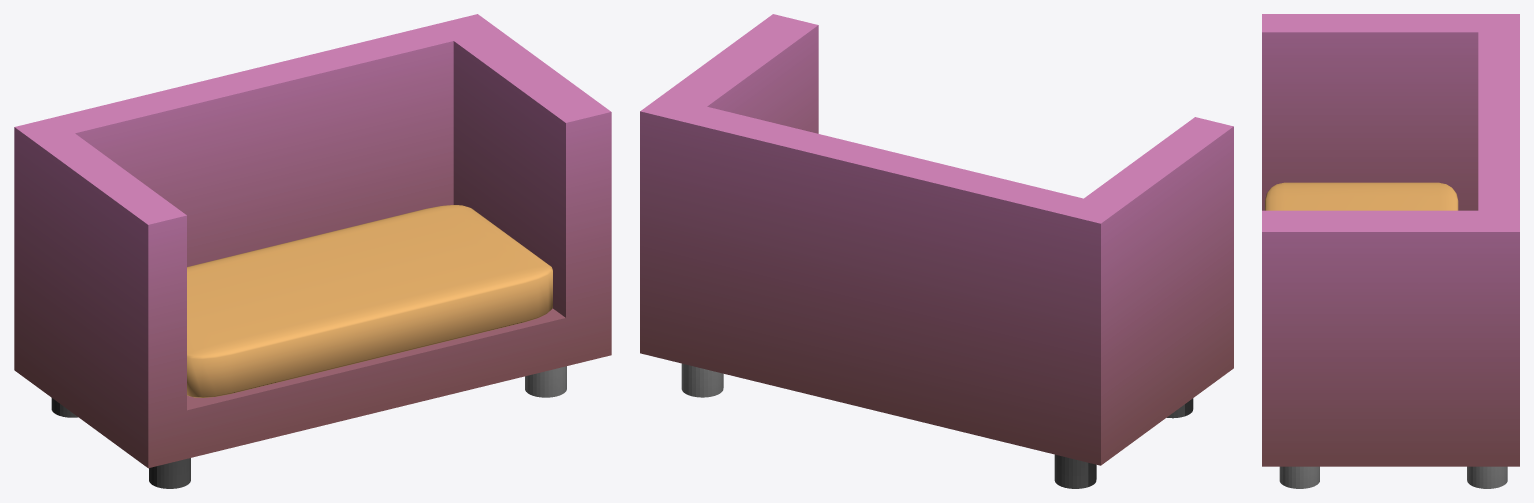
File: lowpoly_sofa.glb
3 views of the same model, side by side, from view 1: azimuth 30°, elevation 25°; view 2: azimuth 150°, elevation 25°; view 3: azimuth 270°, elevation 25° (orthographic). The views are drawn at different scales.
Visible parts, largest first — view 1: Sofa; view 2: Sofa; view 3: Sofa.
Part boxes in pixels (x1=…): Sofa: x1=14, y1=14, x2=611, y2=488; Sofa: x1=640, y1=14, x2=1233, y2=488; Sofa: x1=1262, y1=14, x2=1519, y2=488.
Size of the model in its own units: 4 by 2.31 by 2.
1 material, 1 textured.
